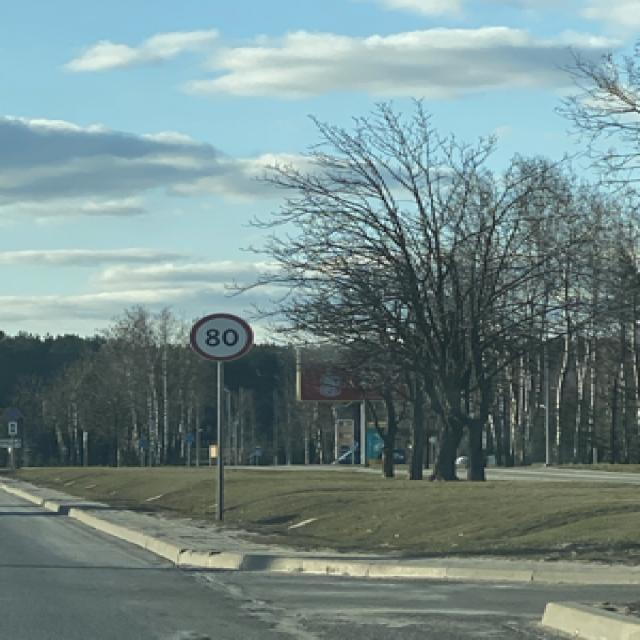speedlimit: (186, 311, 250, 358)
